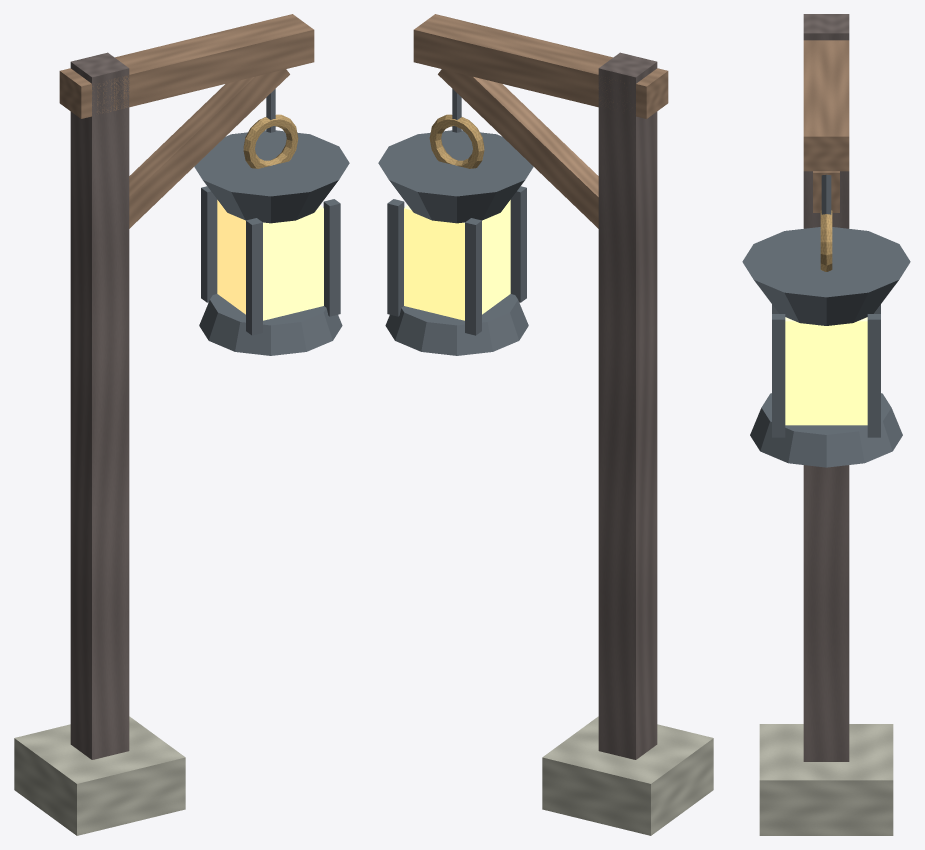
Rendered from lantern-watch-courtyard-lantern-post__87.glb.
3 renders of one model, left to right at view 1: azimuth 30°, elevation 25°; view 2: azimuth 150°, elevation 25°; view 3: azimuth 270°, elevation 25°, orthographic. The views are drawn at different scales.
Visible parts, largest first — view 1: lantern-watch-lantern-post; view 2: lantern-watch-lantern-post; view 3: lantern-watch-lantern-post.
Part boxes in pixels (x1=…): lantern-watch-lantern-post: x1=14, y1=14, x2=349, y2=835; lantern-watch-lantern-post: x1=378, y1=14, x2=713, y2=835; lantern-watch-lantern-post: x1=742, y1=14, x2=910, y2=835.
Size of the model in its own units: 0.945 by 2.26 by 0.44.
Materials: 6 (4 with a texture image).
